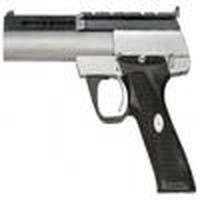gun: (1, 12, 199, 200)
